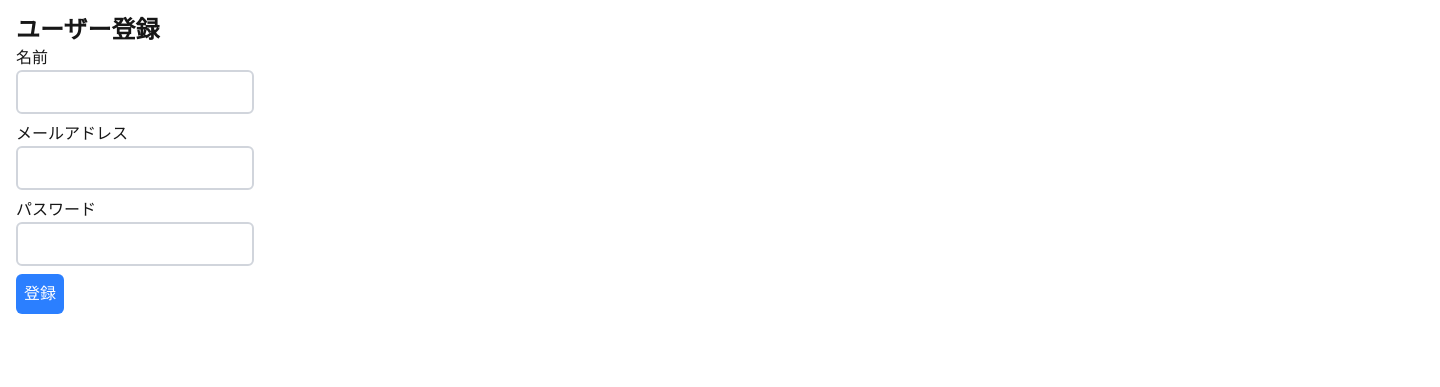
Scenario: ユーザー登録 › ユーザー情報を入力して登録できる
In the field labelled "名前": (135, 92) 16,70 -> 254,114, type "テストユーザー"
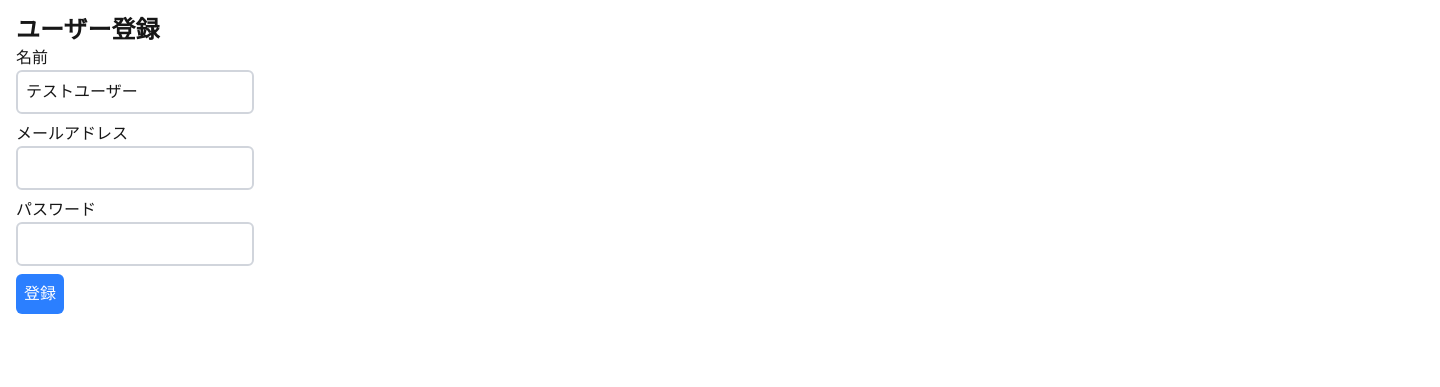
In the field labelled "メールアドレス": (135, 168) 16,146 -> 254,190, type "test@example.com"
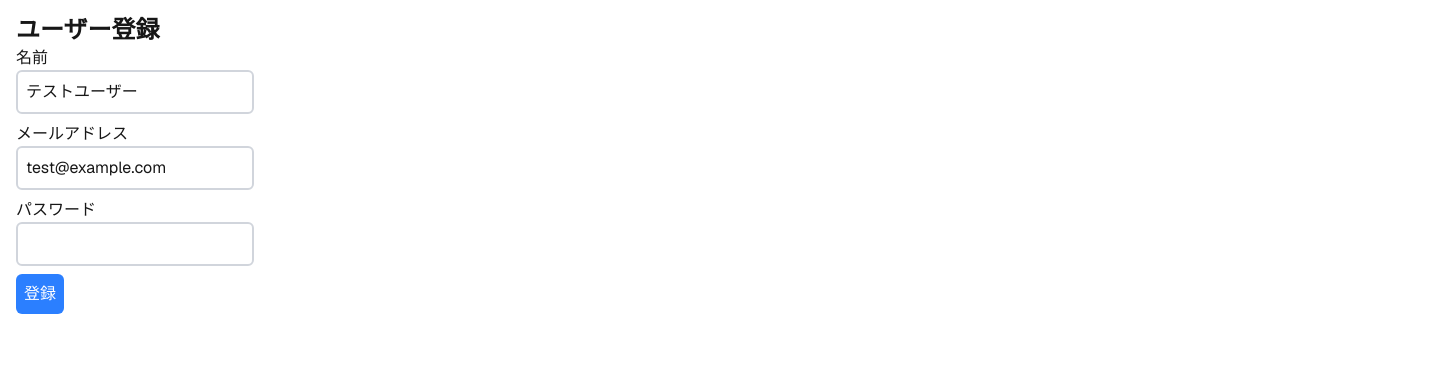
In the password field labelled "パスワード": (135, 244) 16,222 -> 254,266, type "password123"
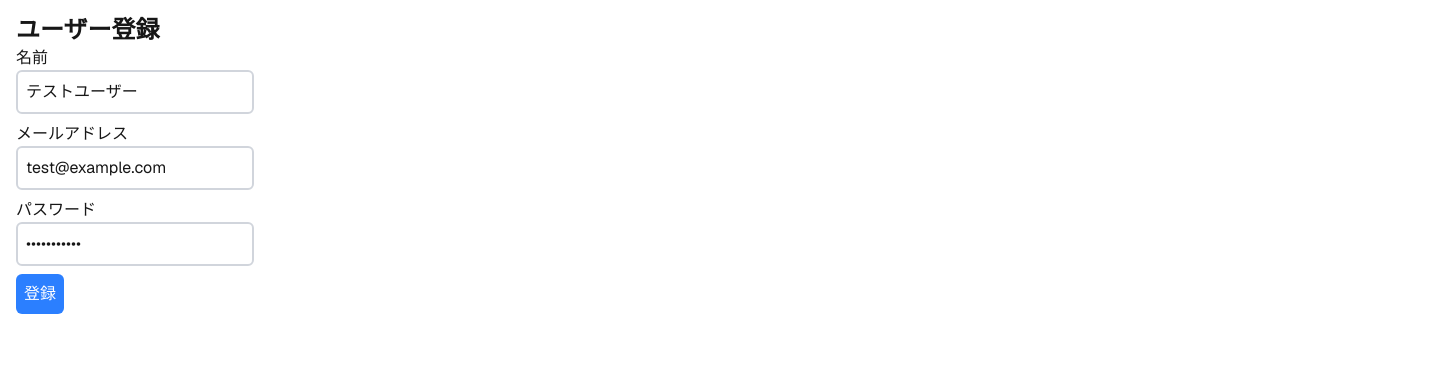
Click the button "登録": (40, 294) 16,274 -> 64,314
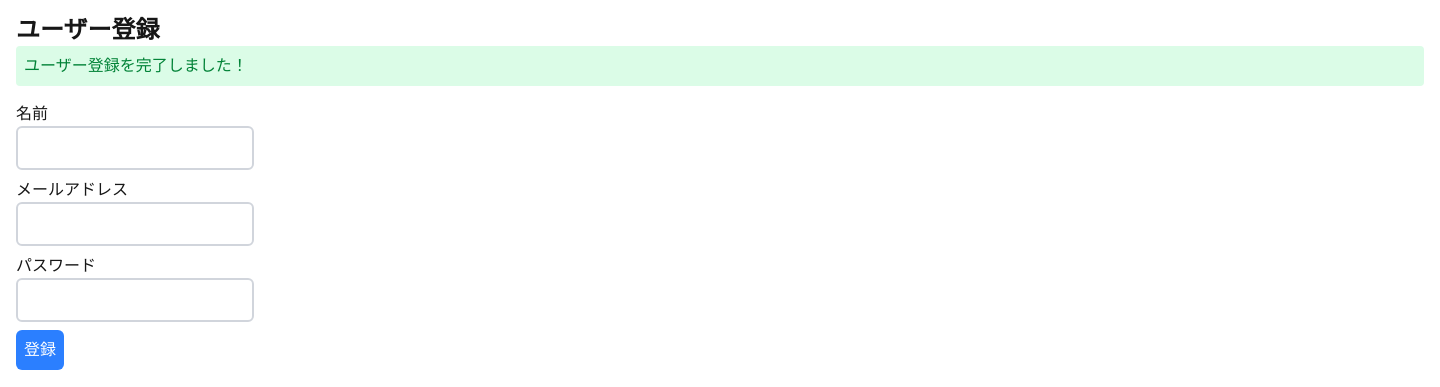
Now the text "ユーザー登録を完了しました！" is shown, box 16,46 -> 1424,86
